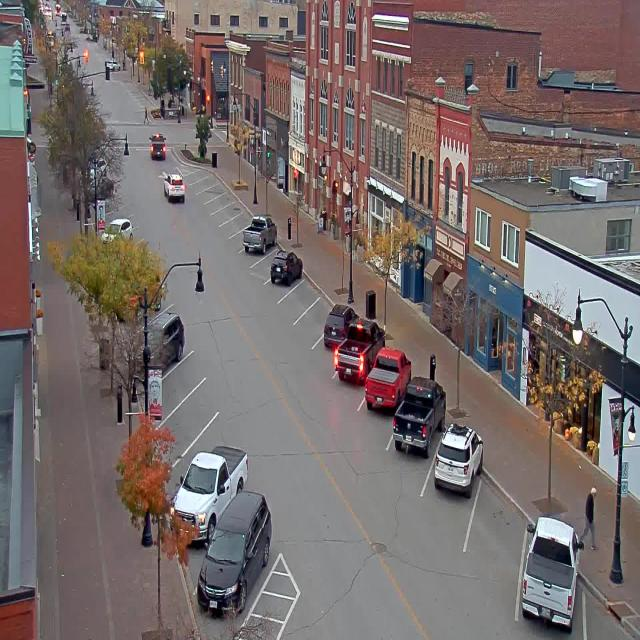available: (465, 454, 538, 573), (194, 395, 247, 465), (580, 579, 640, 640), (176, 363, 224, 421), (165, 338, 208, 397), (288, 262, 322, 306), (308, 284, 340, 327), (261, 231, 288, 261), (235, 202, 256, 227), (230, 194, 248, 217), (221, 184, 238, 207), (206, 168, 222, 188), (213, 177, 230, 195), (196, 163, 211, 180)
occupied: (196, 489, 272, 616), (169, 444, 249, 547), (521, 515, 584, 631), (392, 374, 446, 457), (434, 421, 483, 498), (333, 316, 386, 384), (364, 345, 411, 412), (142, 307, 185, 367), (323, 302, 359, 349), (242, 214, 277, 254), (270, 250, 303, 286)
